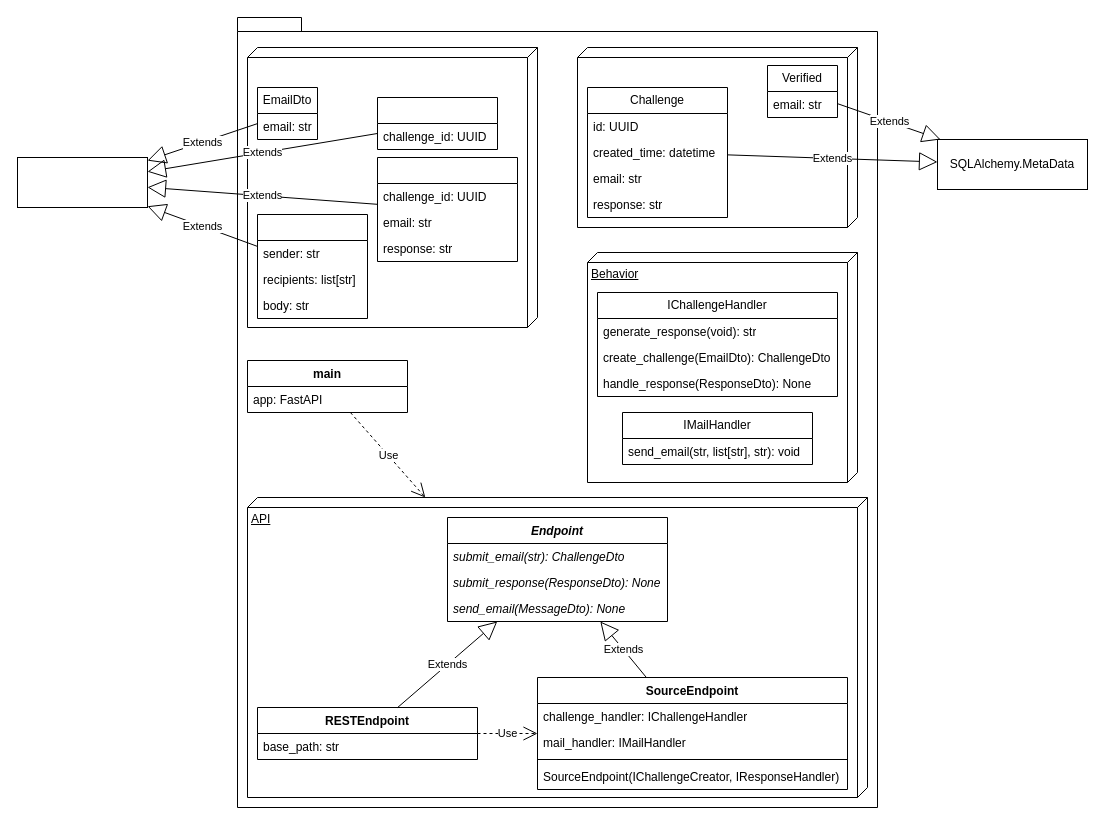
The diagram is 1105 pixels wide and 825 high, and some of its shapes have lost their labels. Each missing label, with the box of its shape:
ChallengeDto: (376, 96, 498, 150)
MessageDto: (256, 214, 368, 318)
Model: (576, 46, 858, 228)
Pydantic.BaseModel: (16, 156, 148, 208)
ResponseDto: (376, 156, 518, 262)
Schema: (246, 46, 538, 328)
